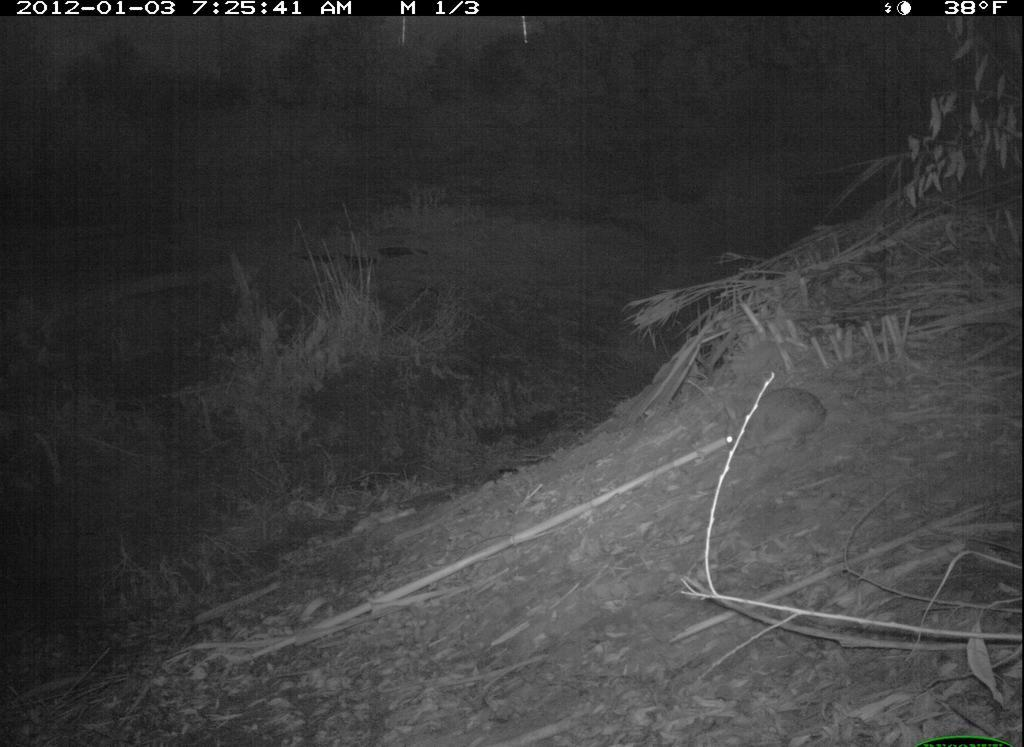rabbit: (721, 385, 834, 462)
